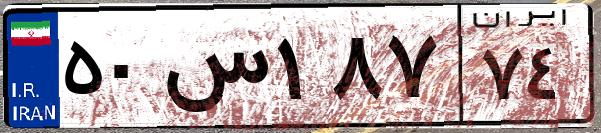0: (110, 28, 158, 98)
1: (270, 28, 330, 110)
4: (525, 38, 570, 115)
5: (57, 26, 110, 100)
7: (385, 28, 445, 110), (475, 38, 525, 113)
8: (330, 28, 385, 110)
س: (158, 20, 270, 120)
